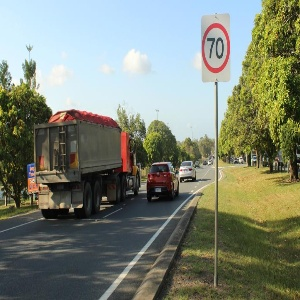70 speed: (202, 23, 230, 73)
